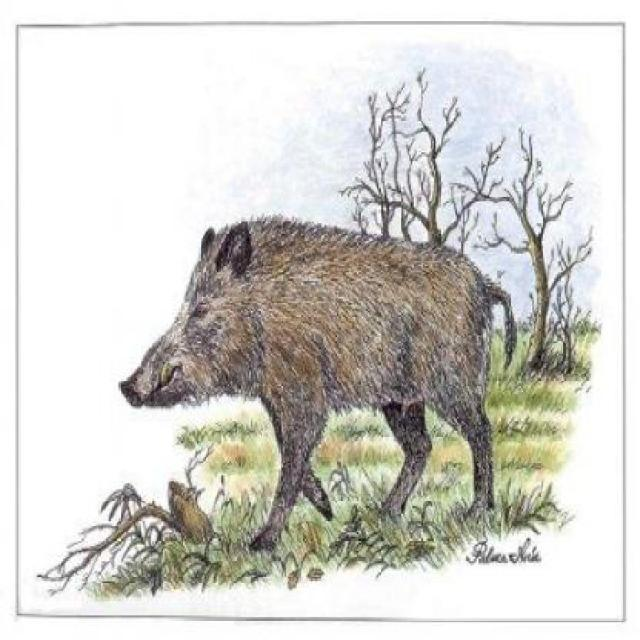wildboar: (112, 210, 520, 558)
